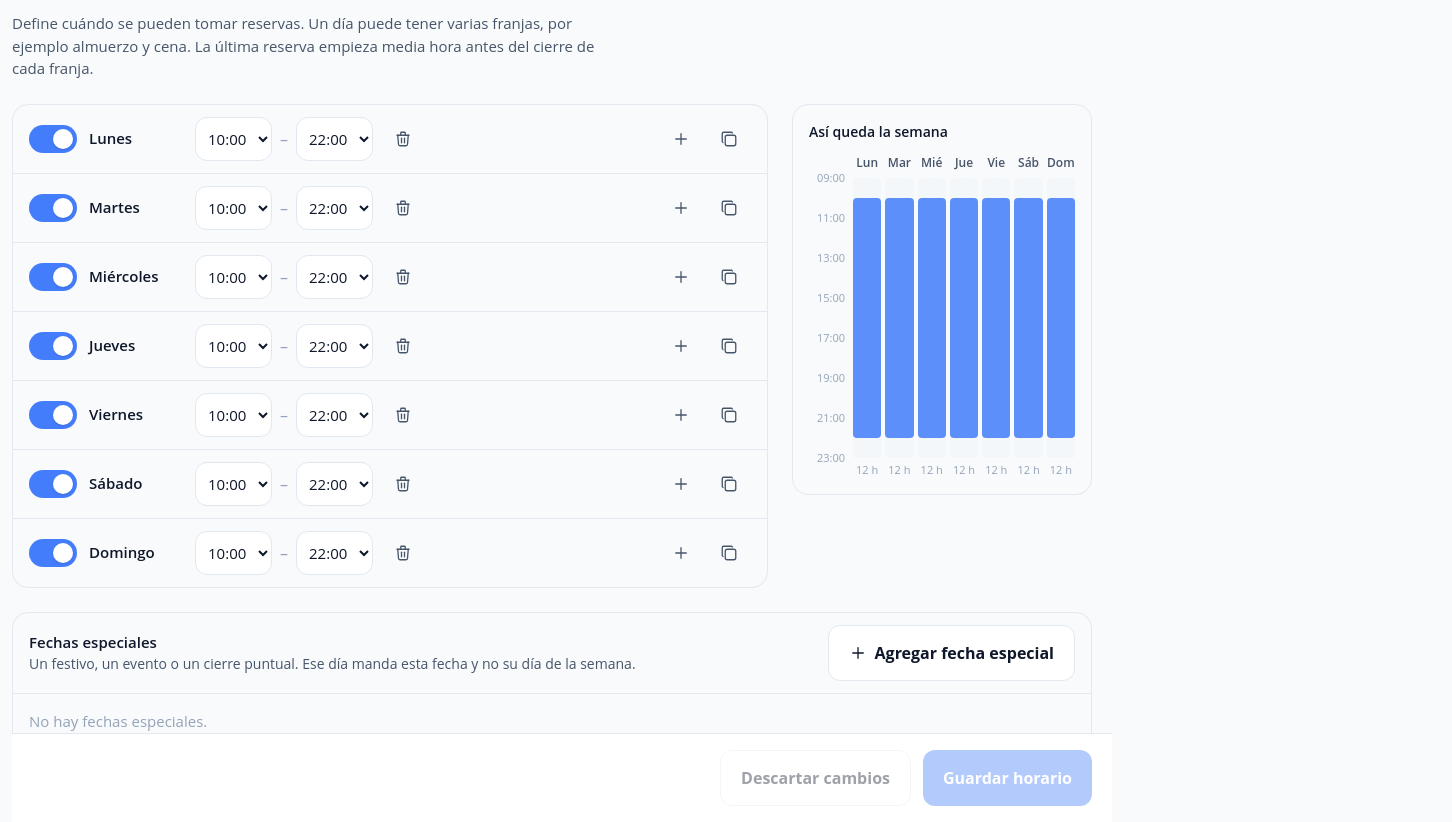
Test: names overlapping ranges on the day and refuses to save them
The image size is (1452, 822).
Click the button named "Agregar franja al Lunes".
click(681, 138)  # box [659, 116, 703, 160]
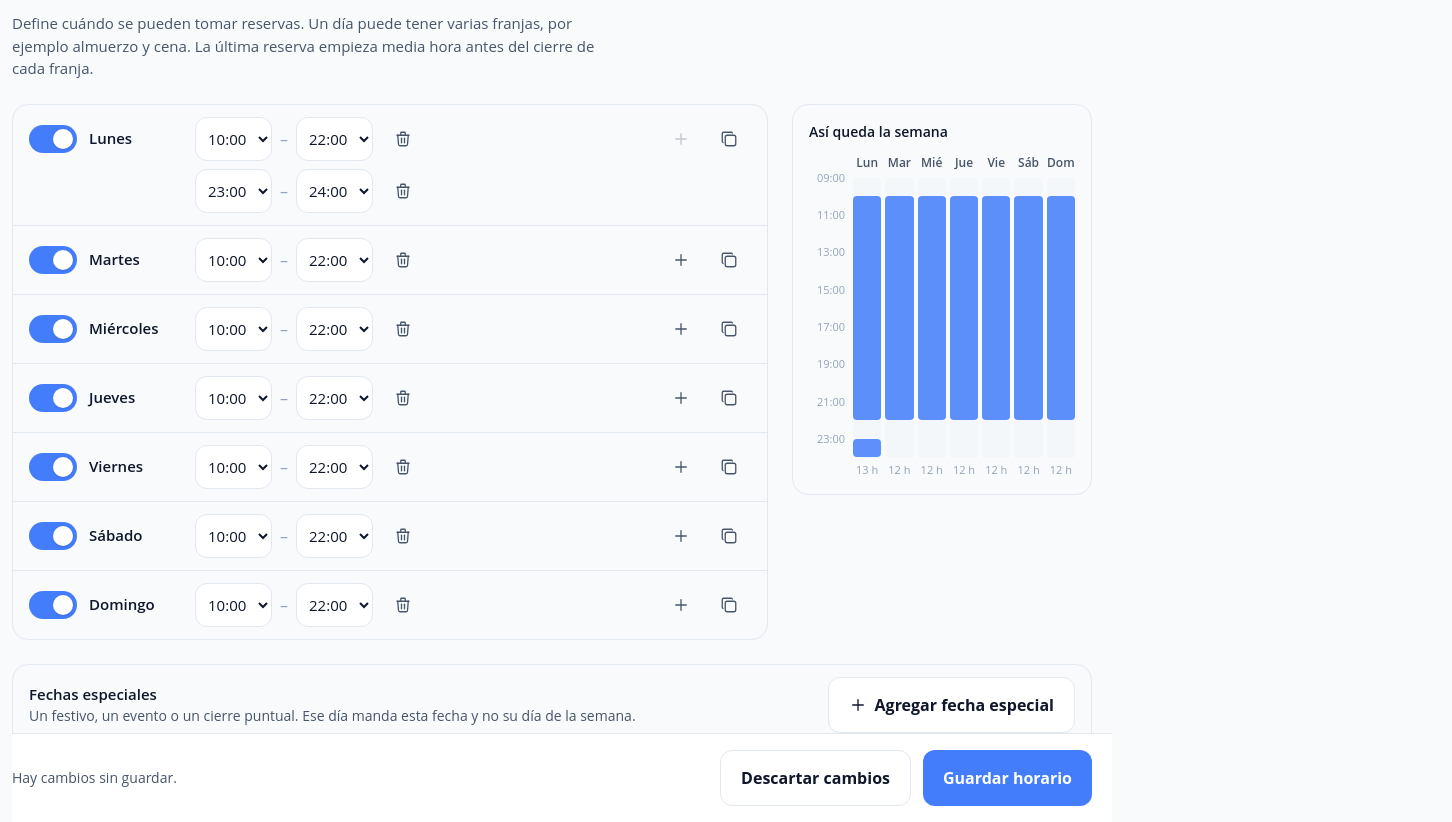
Select "20:00" in the dropdown named "Desde, franja 2 del Lunes" at coordinates (234, 190), box [195, 168, 272, 212]
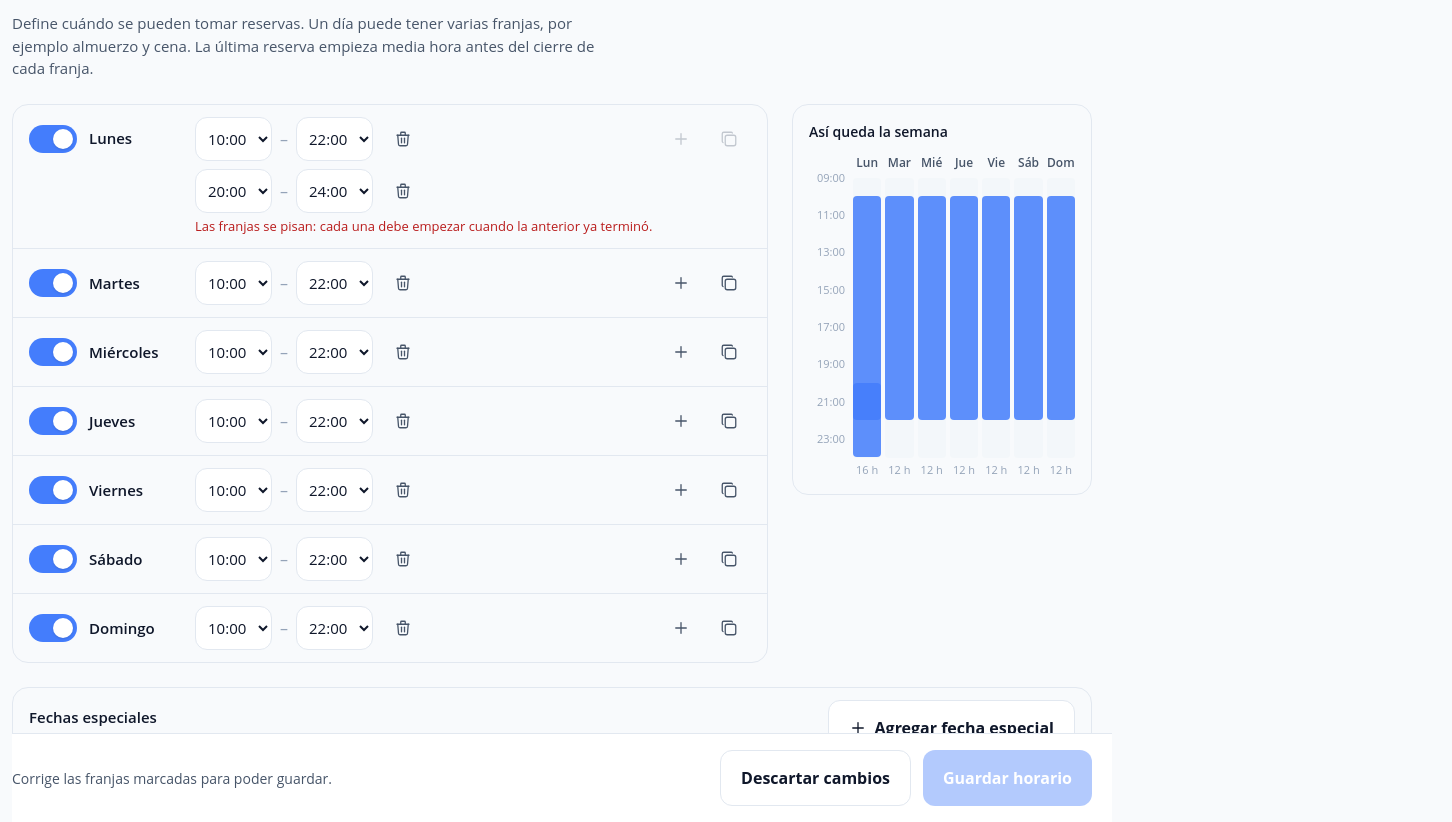
expect the message "Las franjas se pisan: cada una debe empezar cuando la anterior ya terminó." is shown: met, box [195, 216, 652, 234]
expect the button "Guardar horario" is disabled: met, box [923, 750, 1092, 806]
expect the message "Corrige las franjas marcadas para poder guardar." is shown: met, box [12, 768, 332, 788]
Click the button "Descartar cambios".
click(816, 778)  # box [720, 750, 911, 806]
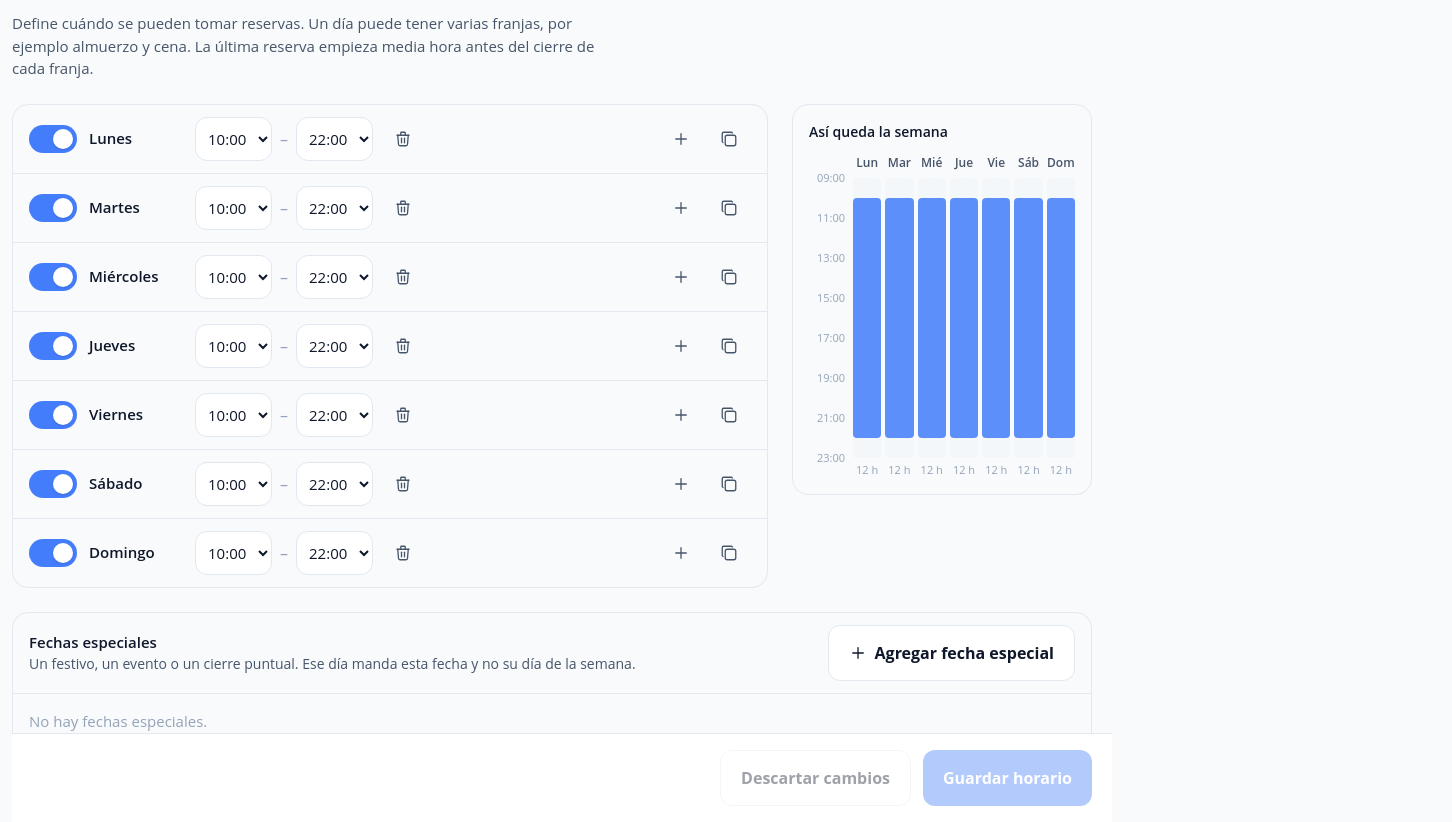
expect the message "Las franjas se pisan: cada una debe empezar cuando la anterior ya terminó." is gone: met
